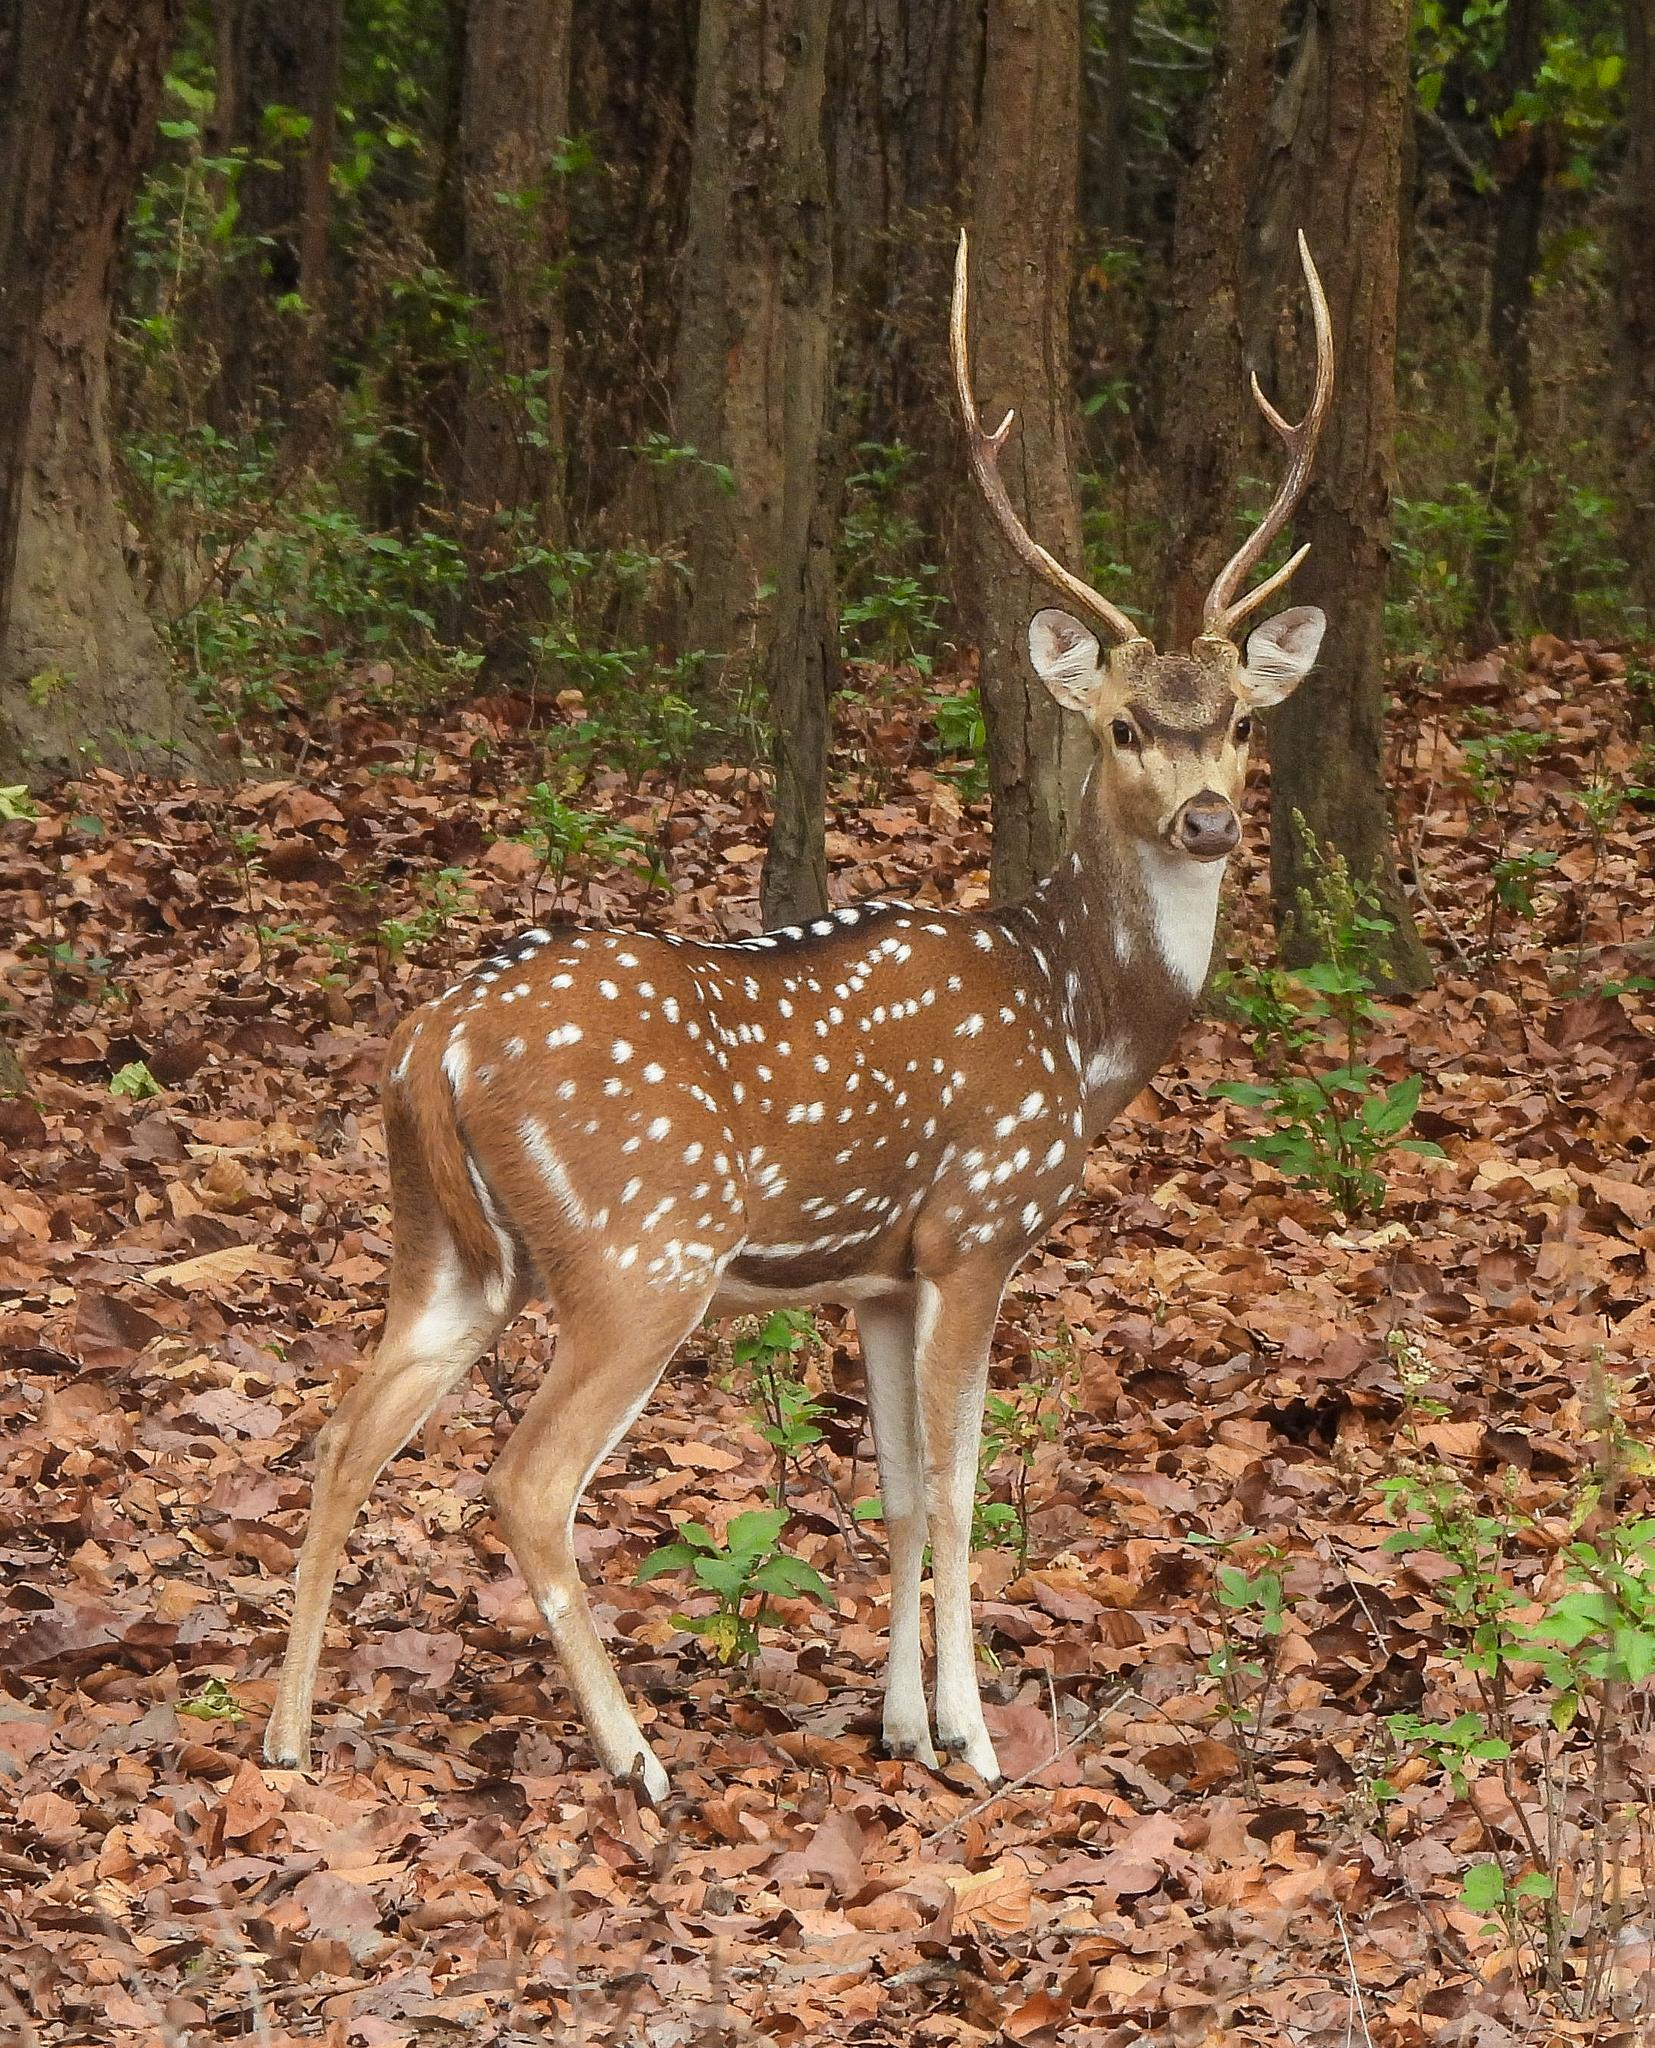Deer: (267, 230, 1332, 1796)
